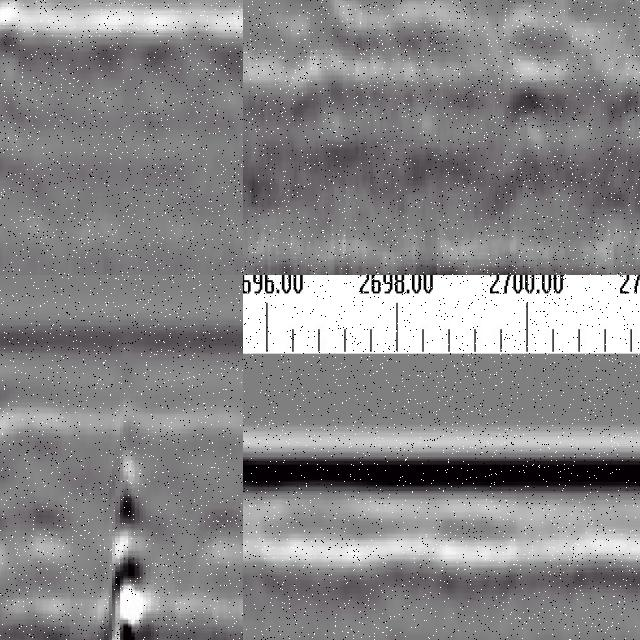crack: (103, 388, 146, 640)
